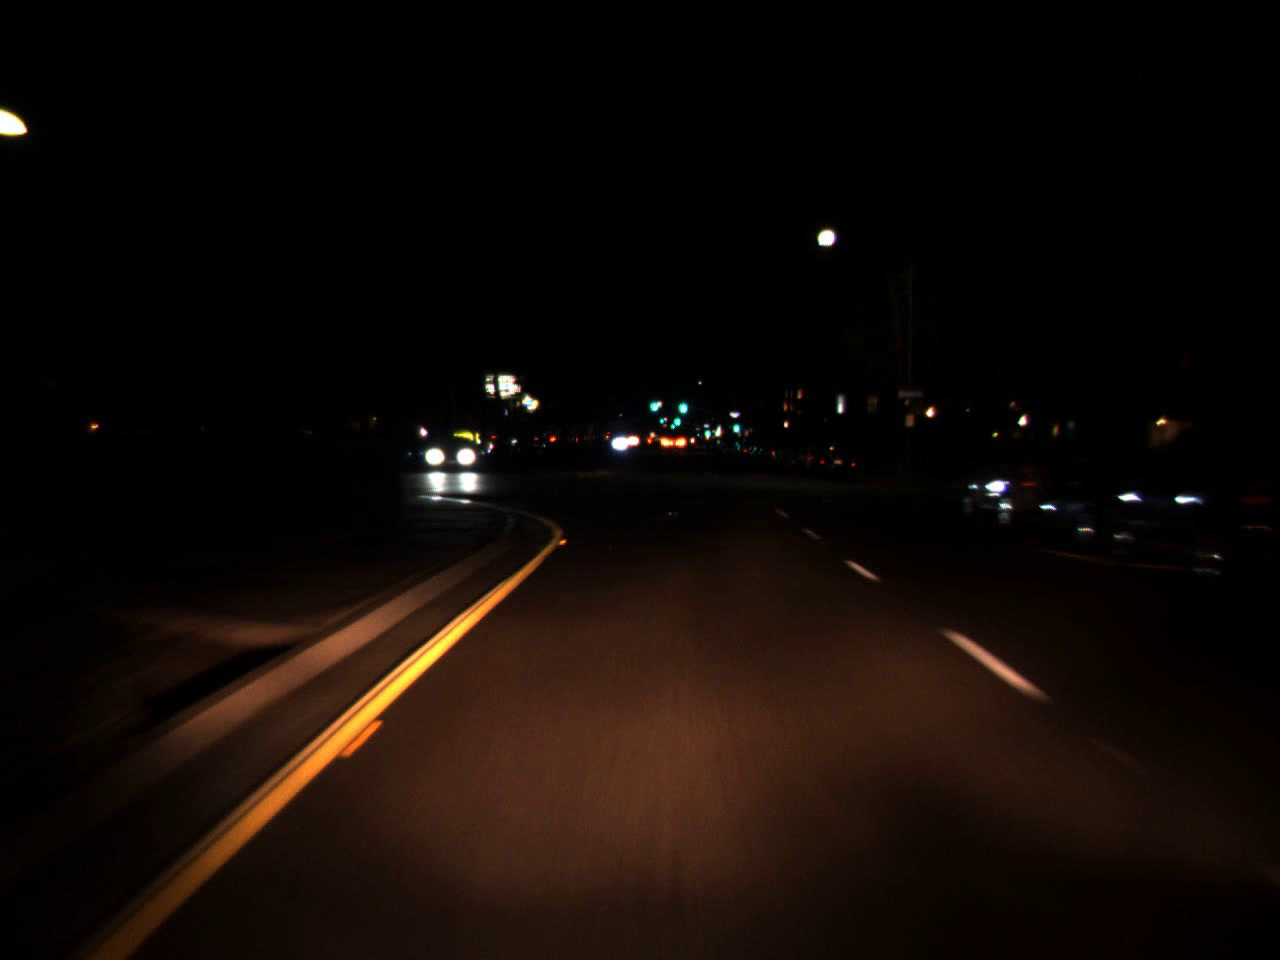go: (676, 390, 688, 417), (671, 406, 681, 430), (648, 391, 657, 415), (703, 423, 711, 438), (731, 418, 740, 430), (657, 413, 664, 425)
